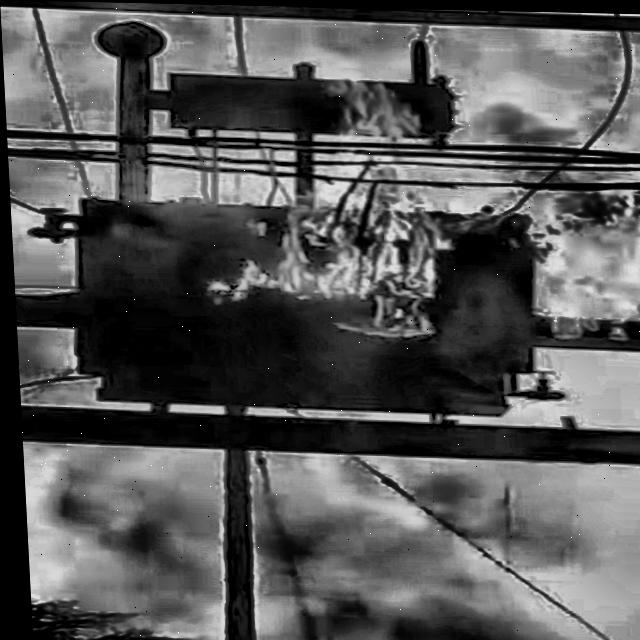Fire: (182, 41, 640, 357)
